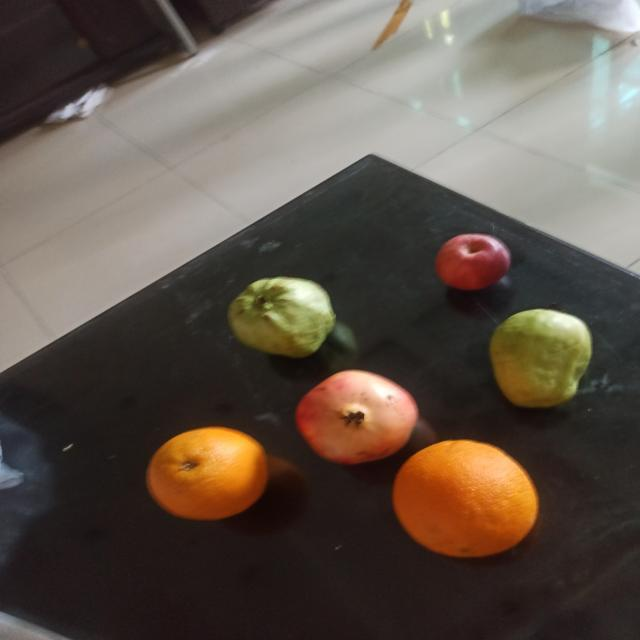apple: (435, 232, 512, 290)
